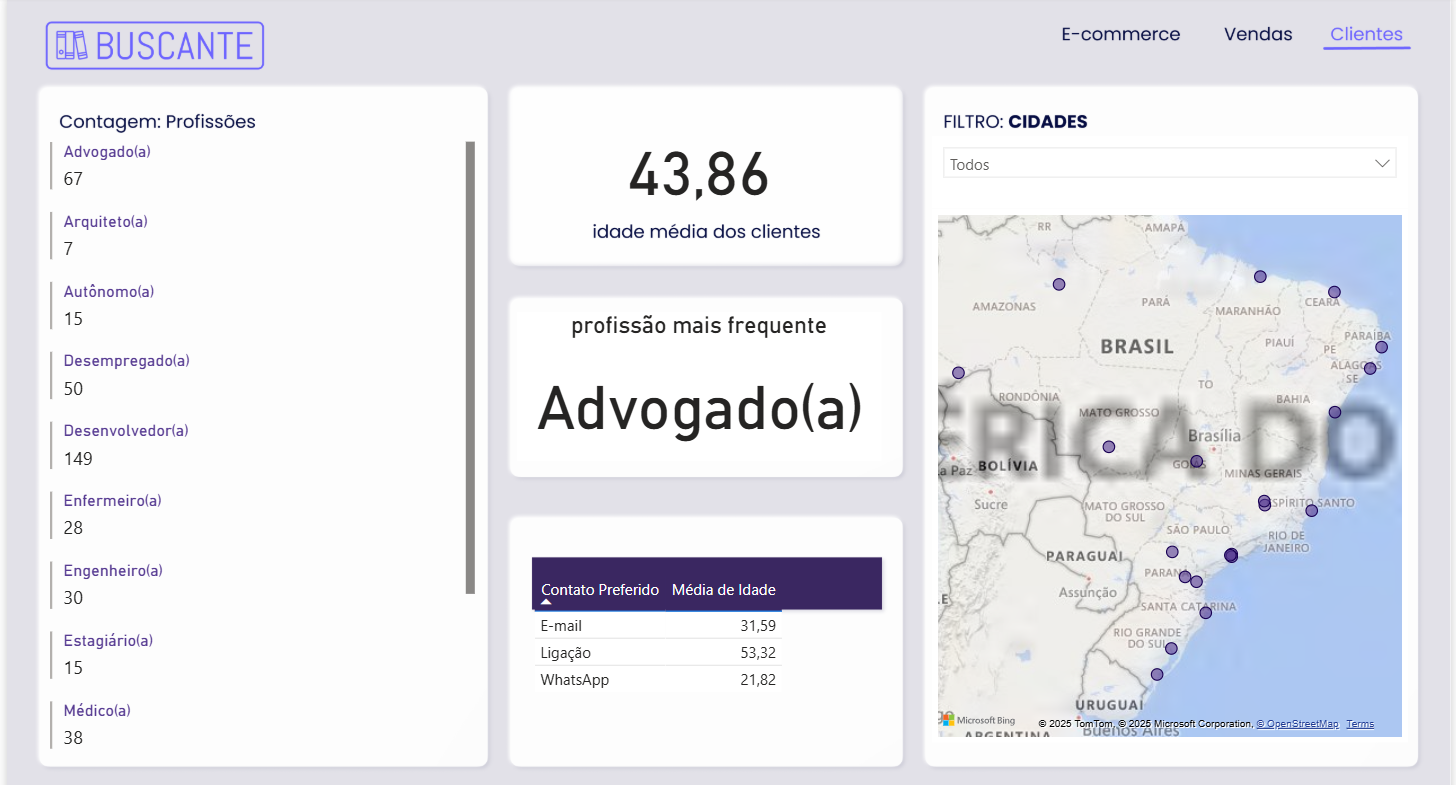

The page's visual inventory and layout, read from the dashboard file:
{"tool":"powerbi","page":{"name":"Página 3","canvas":[1280,720],"ordinal":2},"visuals":[{"type":"tableEx","fields":{"Values":["Clientes.Estado","Clientes.Cidade","Avg(Clientes.Idade)"]},"box":[0,9.7,265.5,499],"z":0},{"type":"card","fields":{"Values":["Avg(Clientes.Idade)"]},"box":[973.6,9.7,252.9,121.6],"z":1000},{"type":"tableEx","fields":{"Values":["Clientes.Contato Preferido","Avg(Clientes.Idade)"]},"box":[304.4,21.4,262.6,167.3],"z":2000},{"type":"pivotTable","fields":{"Values":["Avg(Clientes.Idade)"],"Rows":["Clientes.Cidade"],"Columns":["Clientes.Estado","Clientes.Contato Preferido"]},"box":[335.6,215.9,915.3,301.5],"z":3000},{"type":"TableHeatMap1443716069308","box":[0,519,266,201],"z":4000}]}

Visuals, with their boxes on the page's 1280x720 design canvas (x1, y1, x2, y2). These are canvas units, not pixel positions in the 1456x785 screenshot, which may show the page scaled, cropped or inside an application window:
tableEx - Clientes.Estado x Clientes.Cidade: x1=0 y1=10 x2=266 y2=509
card - Avg(Clientes.Idade): x1=974 y1=10 x2=1226 y2=131
tableEx - Clientes.Contato Preferido x Avg(Clientes.Idade): x1=304 y1=21 x2=567 y2=189
pivotTable - Avg(Clientes.Idade) x Clientes.Cidade: x1=336 y1=216 x2=1251 y2=517
TableHeatMap1443716069308: x1=0 y1=519 x2=266 y2=720
